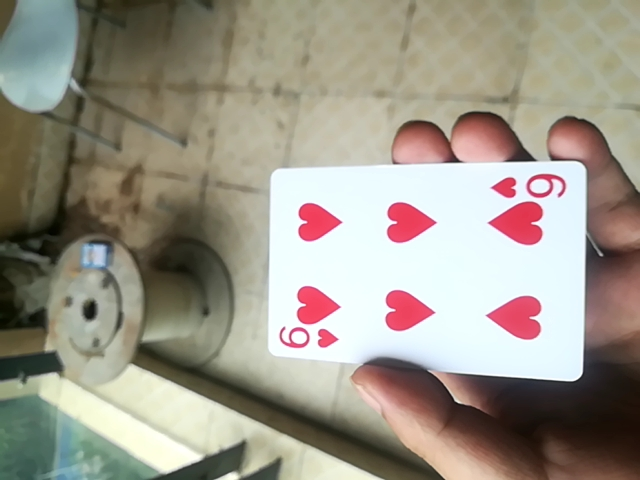hx 6: (262, 161, 589, 383)
